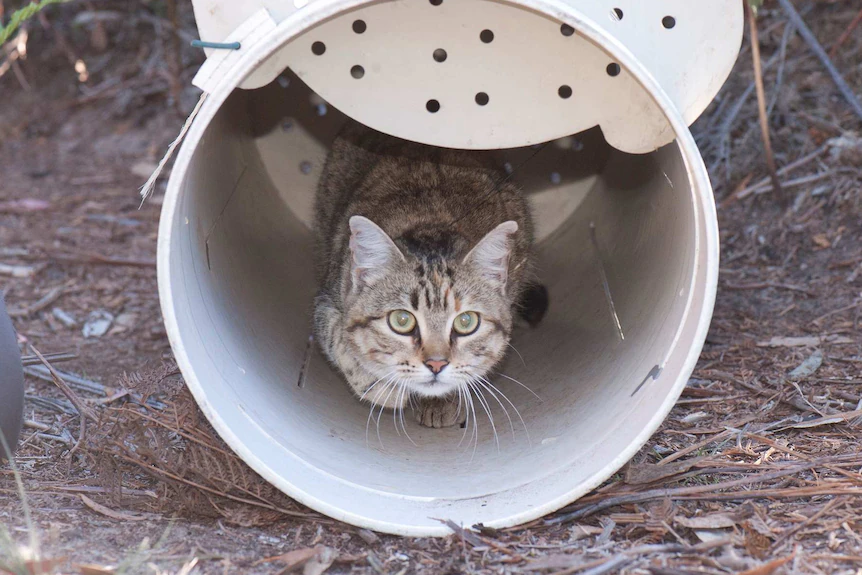Cat: (293, 105, 549, 444)
